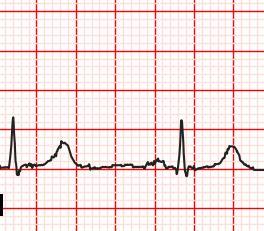LVH: (209, 140, 256, 168), (46, 138, 85, 169)
